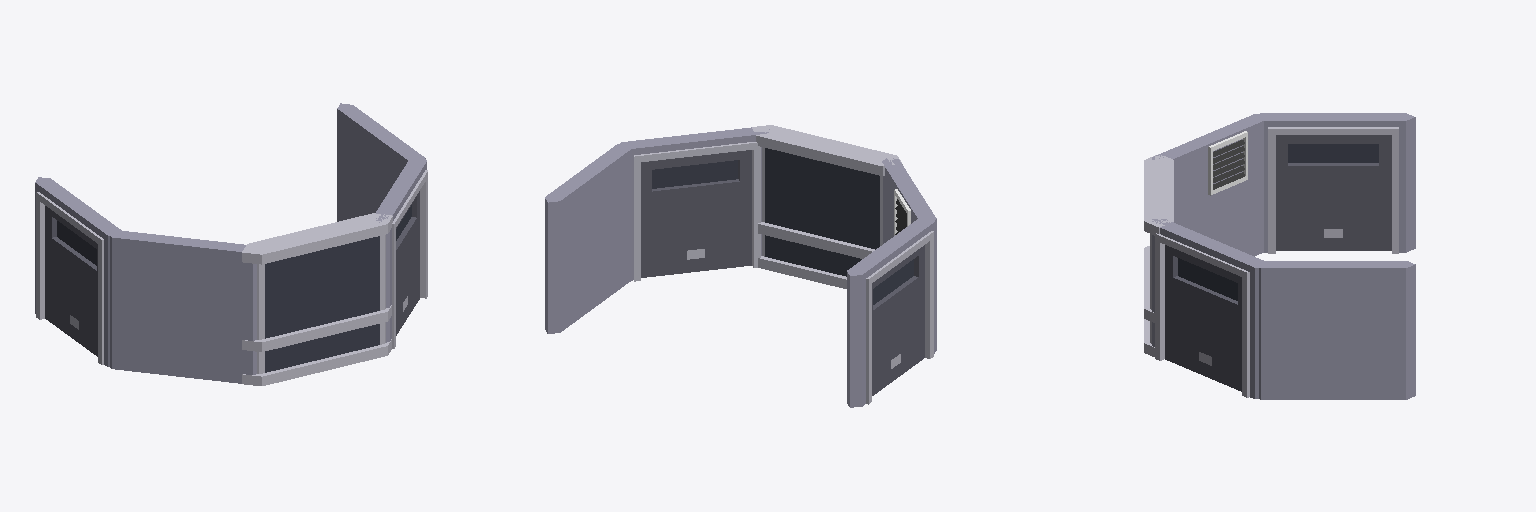
Rendered from controlRoom.obj.
3 views of the same model, side by side, from view 1: azimuth 30°, elevation 25°; view 2: azimuth 150°, elevation 25°; view 3: azimuth 270°, elevation 25° (orthographic).
Bounding box in the file's own units: 2.54 × 1 × 1.86.